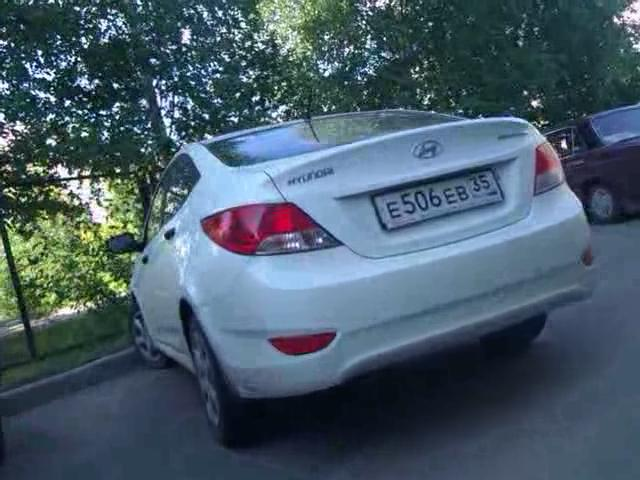car license plate: (372, 168, 505, 241)
